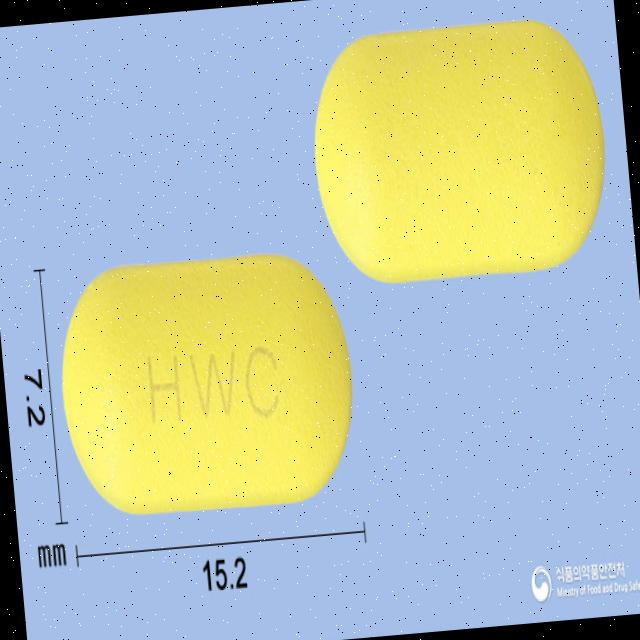Clacid - 250mg: (47, 236, 370, 533), (300, 5, 620, 295)
